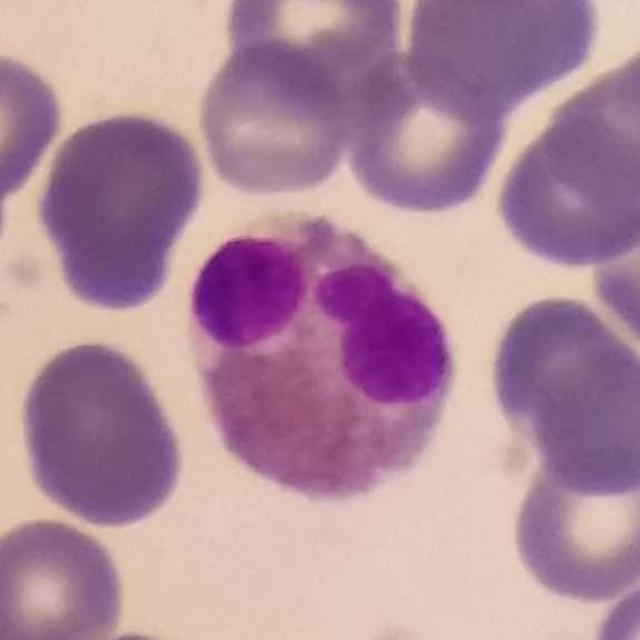eosino: (188, 218, 451, 507)
